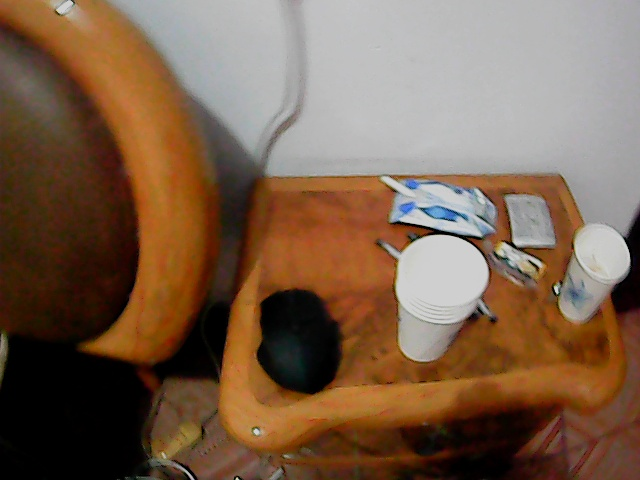cup: (393, 232, 490, 362)
mouse: (258, 284, 343, 394)
